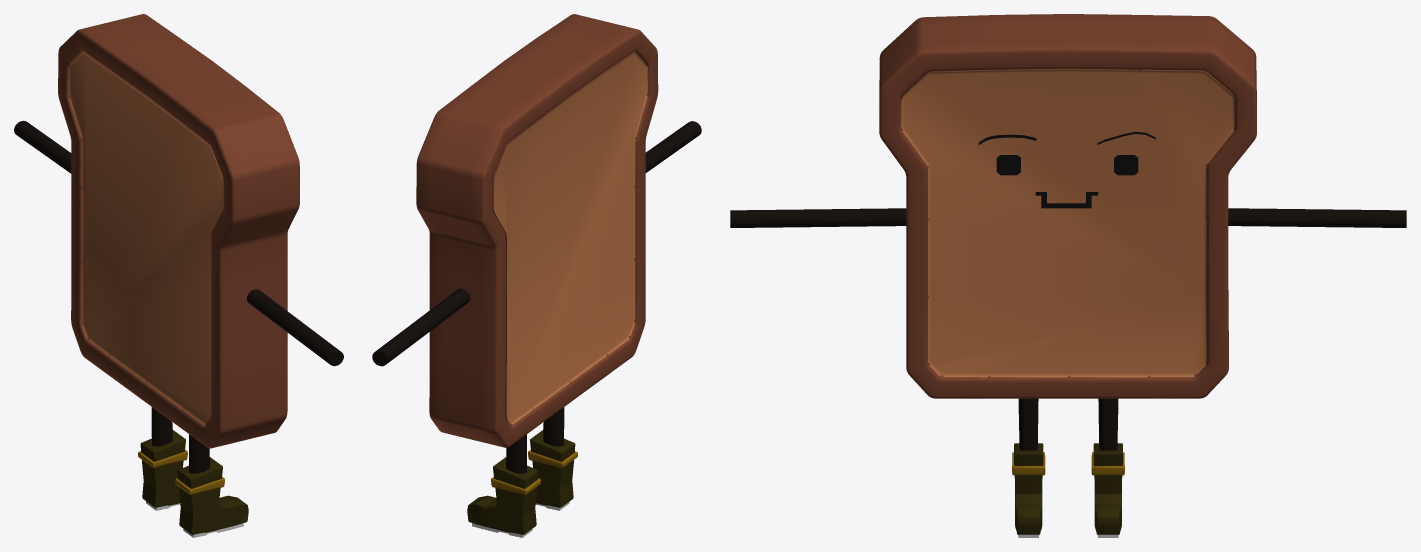
The model's file is tost.obj.
3 views of the same model, side by side, from view 1: azimuth 30°, elevation 25°; view 2: azimuth 150°, elevation 25°; view 3: azimuth 270°, elevation 25° (orthographic). The views are drawn at different scales.
Visible parts, largest first — view 1: tost, Cube, Cylinder, nogi; view 2: tost, Cube, Cylinder, nogi; view 3: tost, Cylinder, Cube, nogi.
Part boxes in pixels (box(x1,y1,x2,y2)): tost: box(58, 14, 299, 448); Cube: box(138, 430, 248, 537); Cylinder: box(14, 120, 343, 366); nogi: box(151, 407, 209, 473); tost: box(416, 14, 658, 447); Cube: box(467, 430, 577, 537); Cylinder: box(372, 121, 701, 366); nogi: box(506, 407, 564, 473); tost: box(879, 14, 1256, 398); Cylinder: box(730, 208, 1406, 227); Cube: box(1012, 443, 1124, 537); nogi: box(1018, 398, 1118, 450).
Size of the model in its own units: 0.3716 by 1.98 by 2.5.
